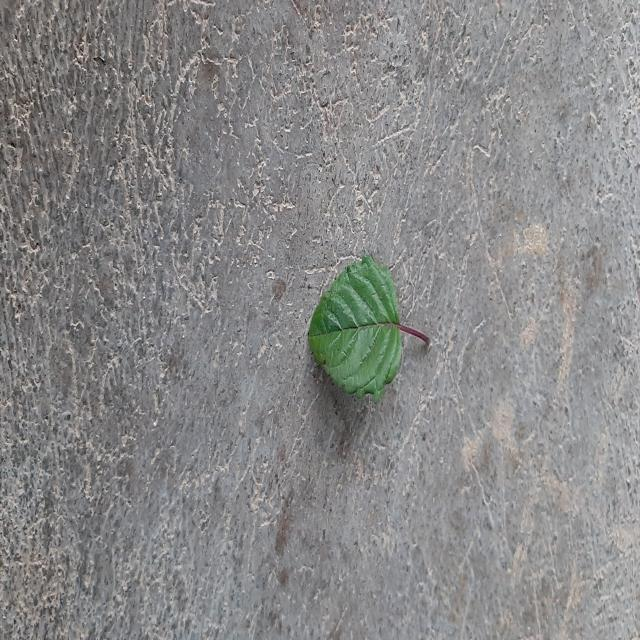tulsi: (309, 255, 401, 401)
